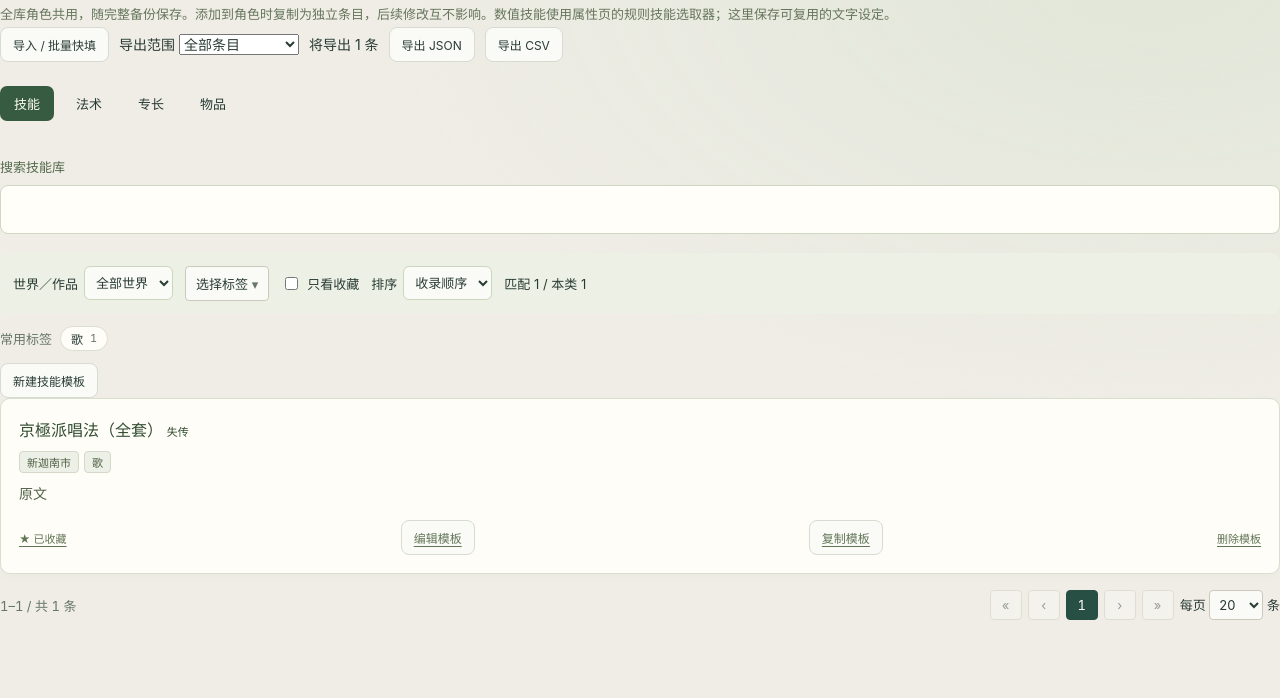
Test: 编辑器可以创建不同世界的同名模板并按世界筛选
Click the button "新建技能模板". click: (49, 380)
box: [0,363,98,398]
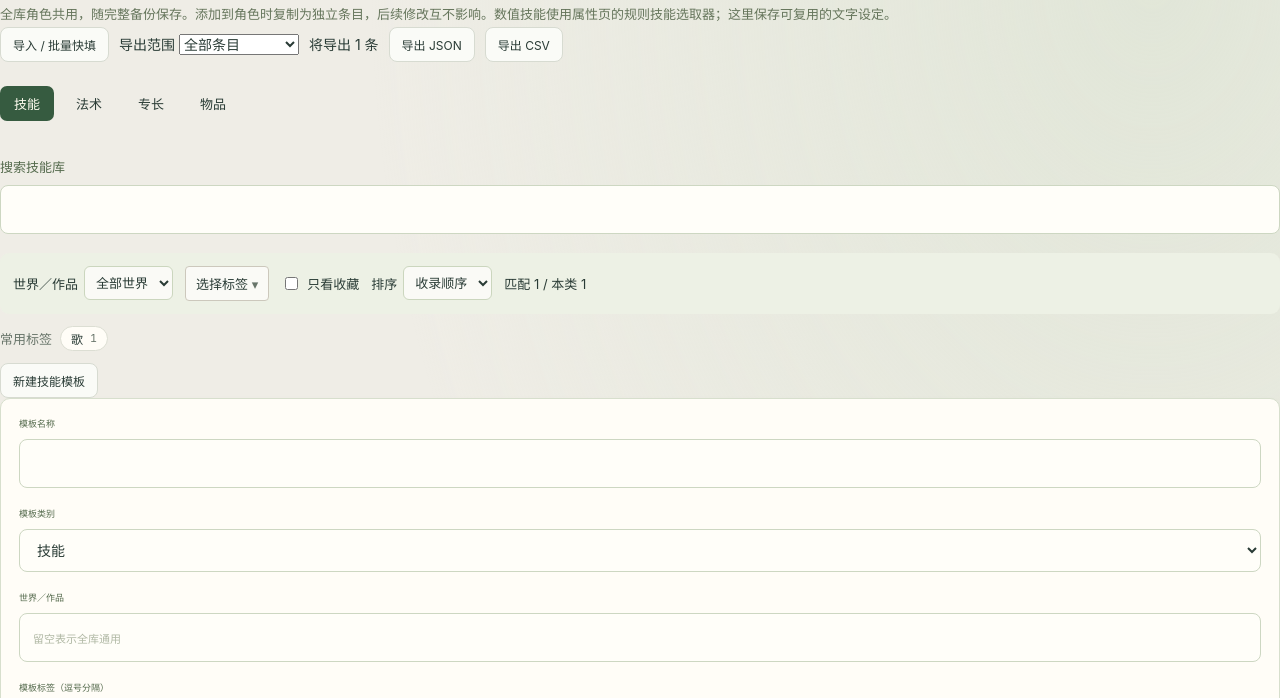
Type "京極派唱法（全套）" into the field labelled "模板名称". click: (640, 464)
box: [19,439,1261,488]
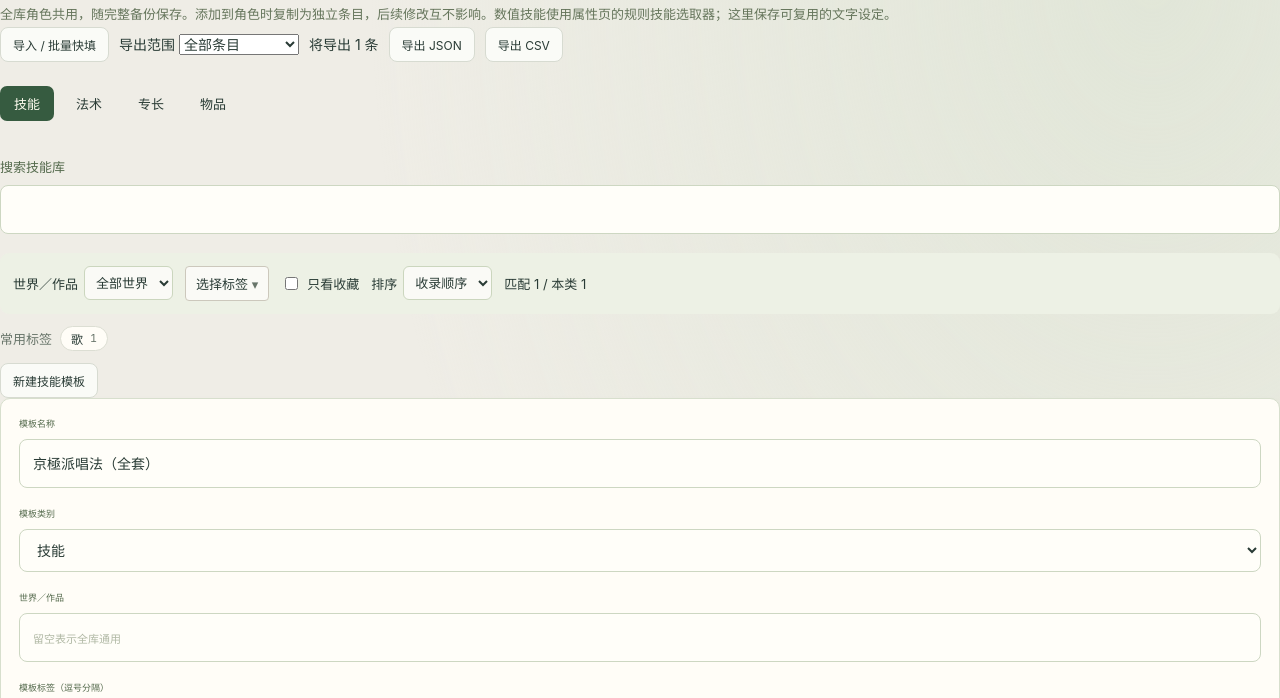
Type "雾港" into the field named "模板世界／作品". click: (640, 638)
box: [19,613,1261,662]
(page scrolled)
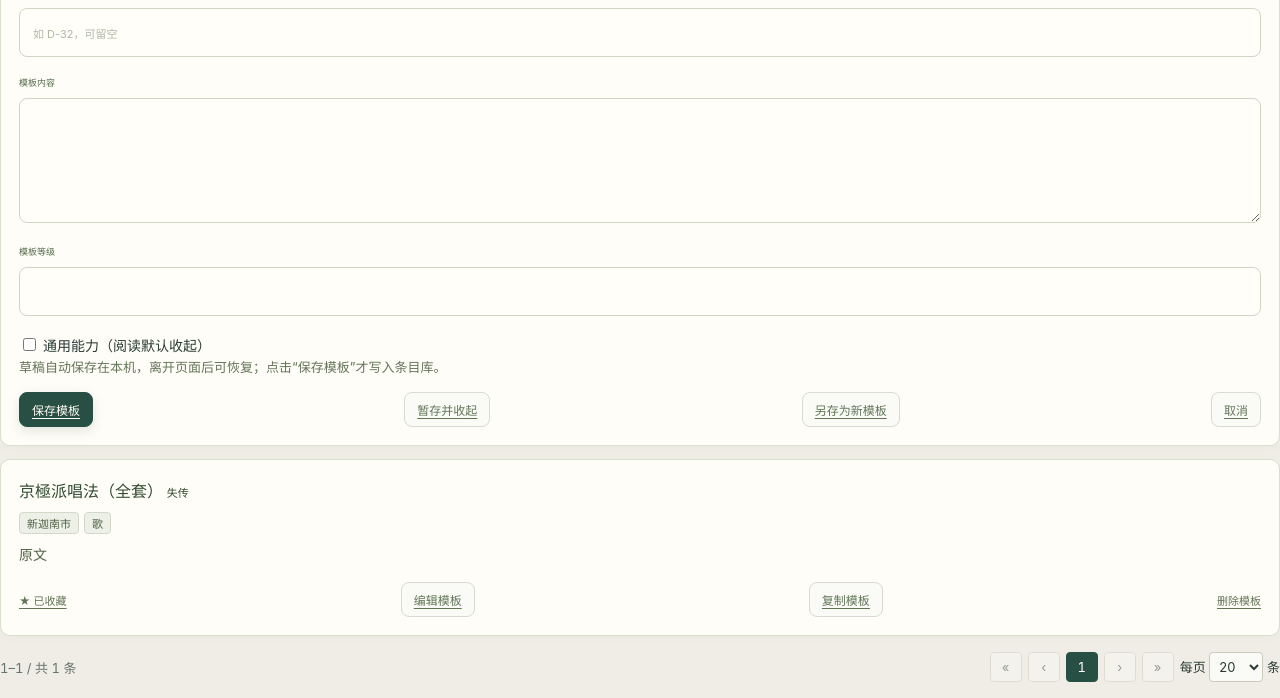
Click the button "保存模板". click: (56, 410)
box: [19,392,93,427]
(page scrolled)
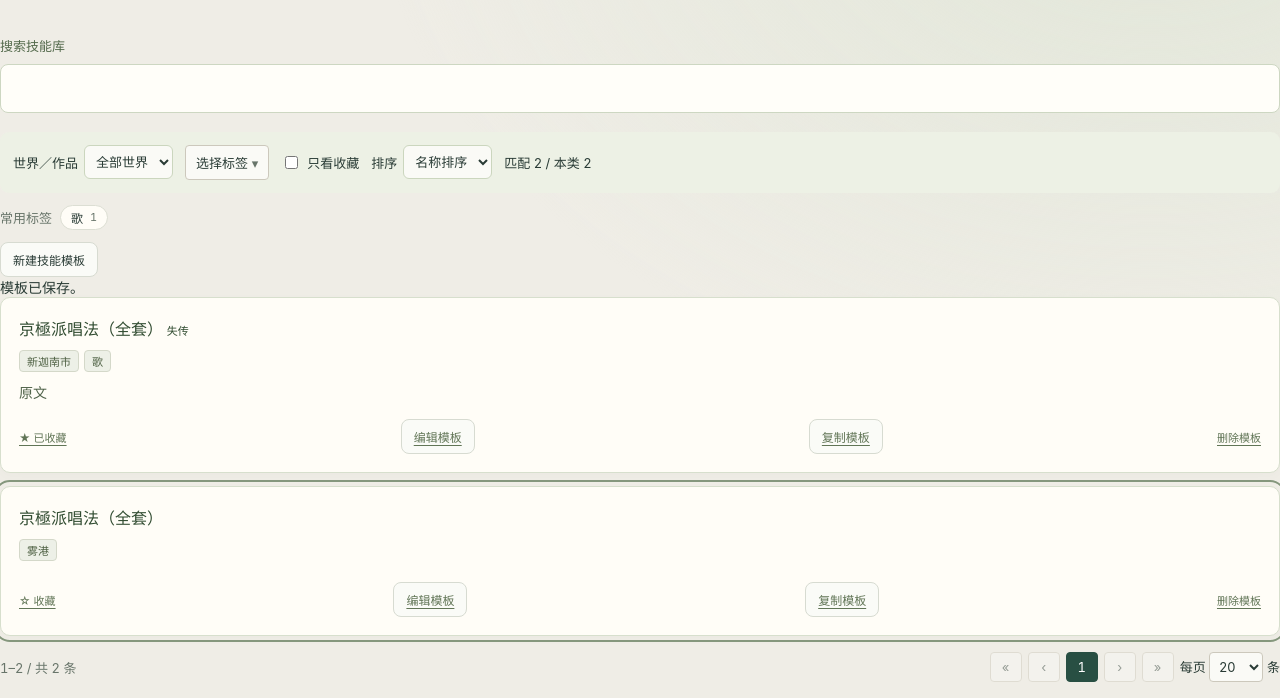
Expected: the number of headings "京極派唱法（全套） 失传" is 2, [19,319,189,339]; [19,508,163,528]
Select "雾港" in the dropdown named "筛选条目世界". click: (128, 162)
box: [84,145,173,179]
(page scrolled)
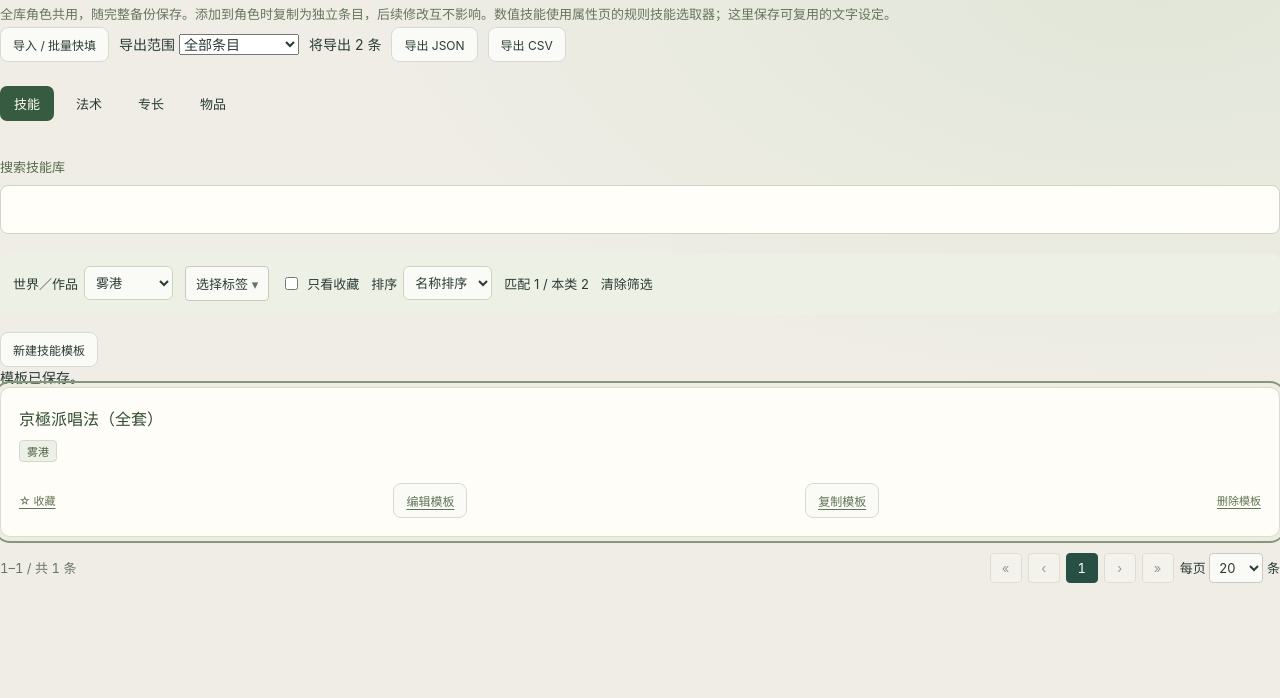
Expected: the number of headings "京極派唱法（全套）" is 1, [19,409,163,429]
Select "全库通用" in the dropdown named "筛选条目世界". click: (128, 283)
box: [84,266,173,300]
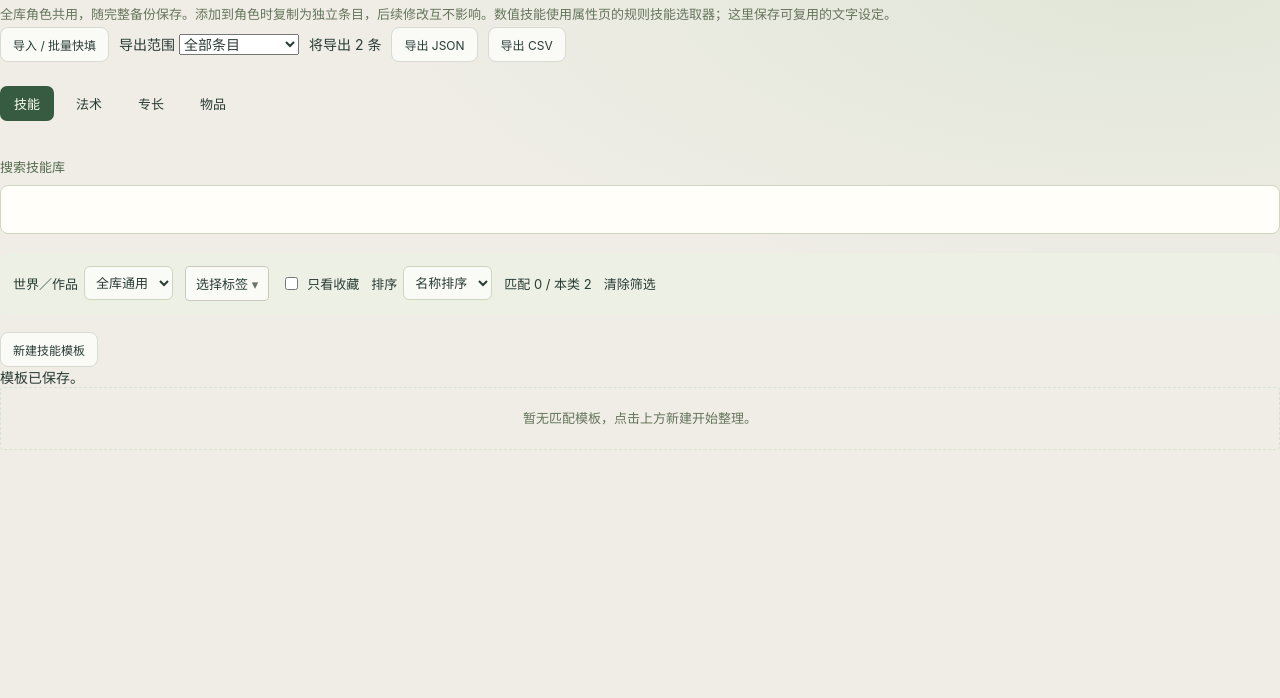
Expected: the heading "京極派唱法" is gone
